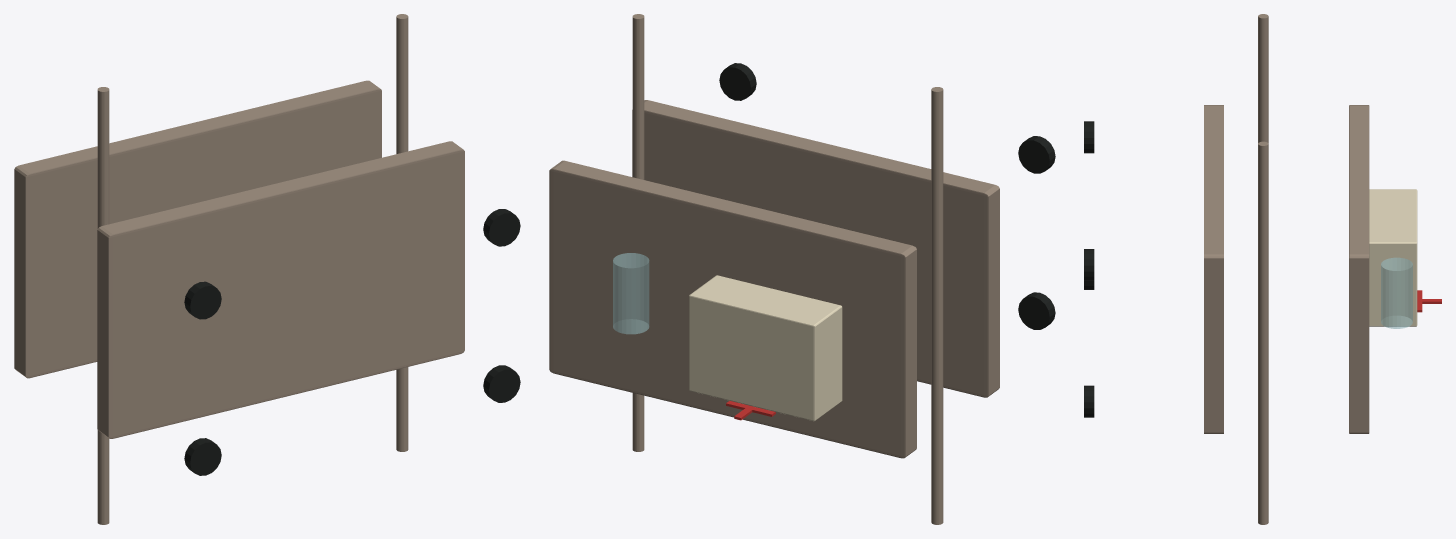
Rendered from dz_blender_medical_cart.glb.
The picture shows the model from 3 angles, left to right: view 1: azimuth 30°, elevation 25°; view 2: azimuth 150°, elevation 25°; view 3: azimuth 270°, elevation 25°; orthographic projection. The views are drawn at different scales.
Parts seen in each view (by area): view 1: metal tray, metal tray.001, cart post.002, cart post, cart post.001, small rubber caster.001, small rubber caster, small rubber caster.002, small rubber caster.003, cart post.003; view 2: metal tray.001, metal tray, bloodied med box, cart post.001, serum bottle, cart post.002, cart post, small rubber caster.003, small rubber caster.001, small rubber caster, cart post.003; view 3: metal tray.001, bloodied med box, metal tray, cart post.003, serum bottle, cart post, cart post.002.
Part boxes in pixels (left/top/right/bottom): metal tray: left=97, top=141, right=464, bottom=438; metal tray.001: left=14, top=80, right=381, bottom=378; cart post.002: left=97, top=87, right=109, bottom=228; cart post: left=396, top=14, right=408, bottom=153; cart post.001: left=97, top=430, right=109, bottom=524; small rubber caster.001: left=184, top=281, right=221, bottom=319; small rubber caster: left=184, top=438, right=221, bottom=475; small rubber caster.002: left=483, top=365, right=520, bottom=402; small rubber caster.003: left=483, top=209, right=520, bottom=246; cart post.003: left=396, top=367, right=408, bottom=451; metal tray.001: left=549, top=160, right=916, bottom=458; metal tray: left=632, top=100, right=999, bottom=397; bloodied med box: left=689, top=275, right=842, bottom=421; cart post.001: left=931, top=246, right=943, bottom=524; serum bottle: left=613, top=253, right=649, bottom=334; cart post.002: left=931, top=87, right=943, bottom=368; cart post: left=632, top=14, right=644, bottom=179; small rubber caster.003: left=719, top=63, right=756, bottom=100; small rubber caster.001: left=1018, top=136, right=1055, bottom=173; small rubber caster: left=1018, top=292, right=1055, bottom=329; cart post.003: left=632, top=174, right=644, bottom=451; metal tray.001: left=1349, top=105, right=1369, bottom=433; bloodied med box: left=1369, top=189, right=1417, bottom=326; metal tray: left=1204, top=105, right=1223, bottom=433; cart post.003: left=1258, top=281, right=1268, bottom=524; serum bottle: left=1381, top=257, right=1412, bottom=328; cart post: left=1258, top=141, right=1268, bottom=387; cart post.002: left=1258, top=14, right=1268, bottom=143.
Size of the model in its own units: 1.24 by 1.44 by 1.23.
